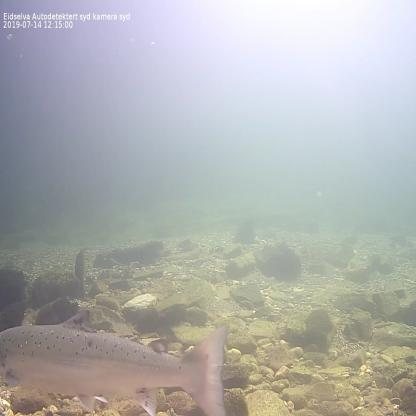salmon: (0, 306, 231, 416)
